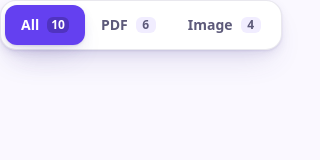
Test case: CategoryFilter › changes on click
The image size is (320, 160).
Click the radio button labelled "Image 4" at (224, 25), box [172, 5, 277, 45]
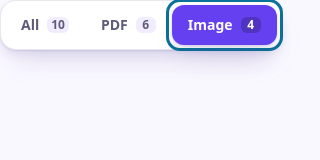
Expected: the radio button labelled "Image 4" is checked, [172, 5, 277, 45]
